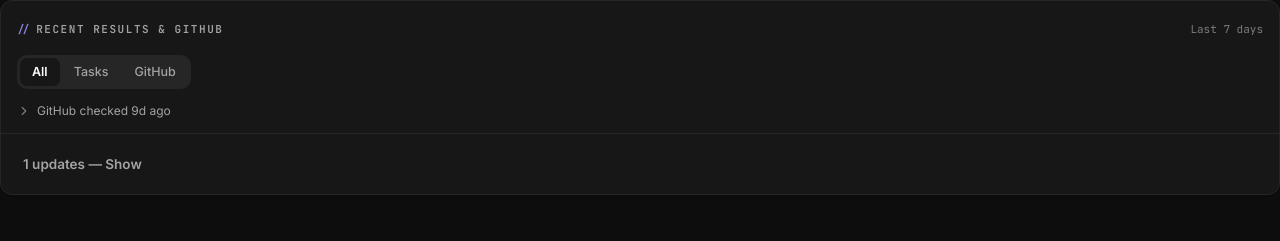
Test: still stages inserted GitHub rows while immediately removing detached rows
Expected: the link "new/repo issue" is not shown
Click the button "1 updates — Show" at (82, 164), box [9,142,156,186]
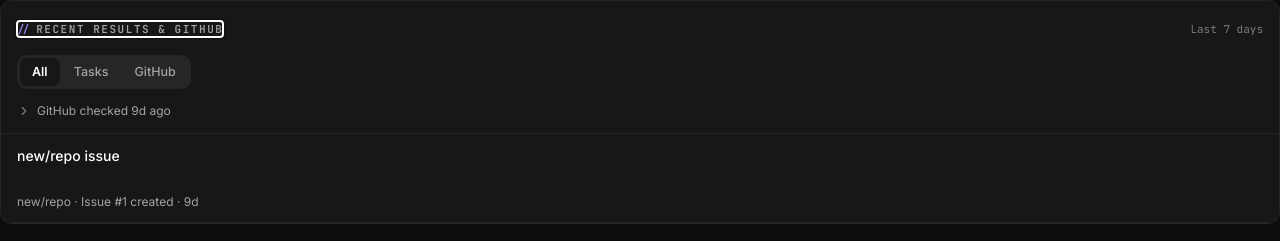
Expected: the link "new/repo issue" is shown, [17,147,120,164]
